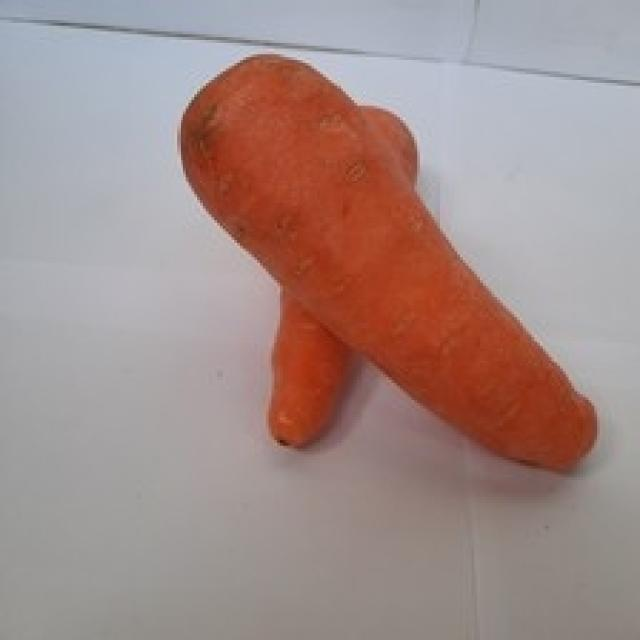carrot: (177, 51, 591, 463), (266, 283, 346, 443)
